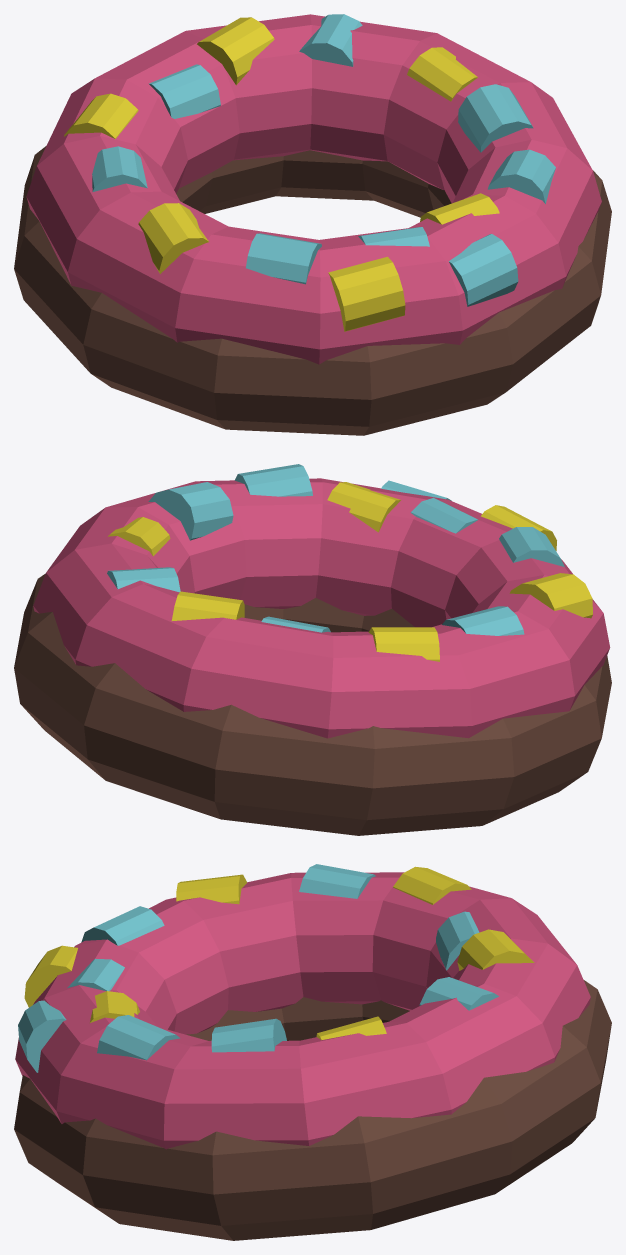
3 views of the same model, one above another, from view 1: azimuth 30°, elevation 25°; view 2: azimuth 150°, elevation 25°; view 3: azimuth 270°, elevation 25° (orthographic).
Parts seen in each view (by area): view 1: node_MeshObject-65633280-PolyPaper21; view 2: node_MeshObject-65633280-PolyPaper21; view 3: node_MeshObject-65633280-PolyPaper21.
Boxes of the visible parts, x1,y1,x2,y2 form: node_MeshObject-65633280-PolyPaper21: (14,14,611,435); node_MeshObject-65633280-PolyPaper21: (14,464,611,835); node_MeshObject-65633280-PolyPaper21: (14,864,611,1240).
Bounding box in the file's own units: 0.1877 × 0.0821 × 0.187.
